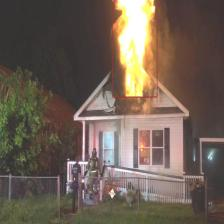fire: (112, 0, 158, 97)
